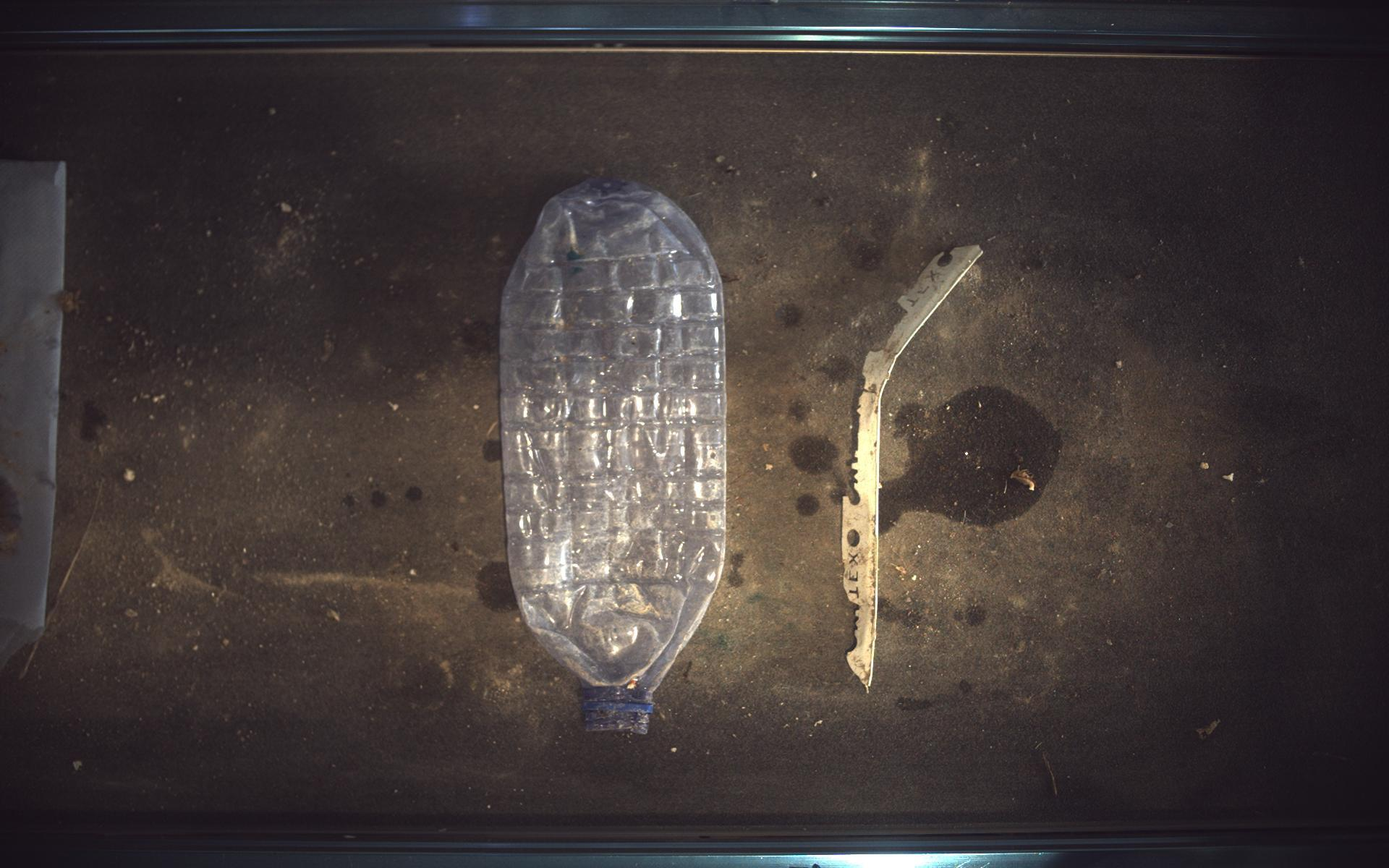general_w: (500, 177, 727, 736)
plastic: (843, 244, 984, 690)
